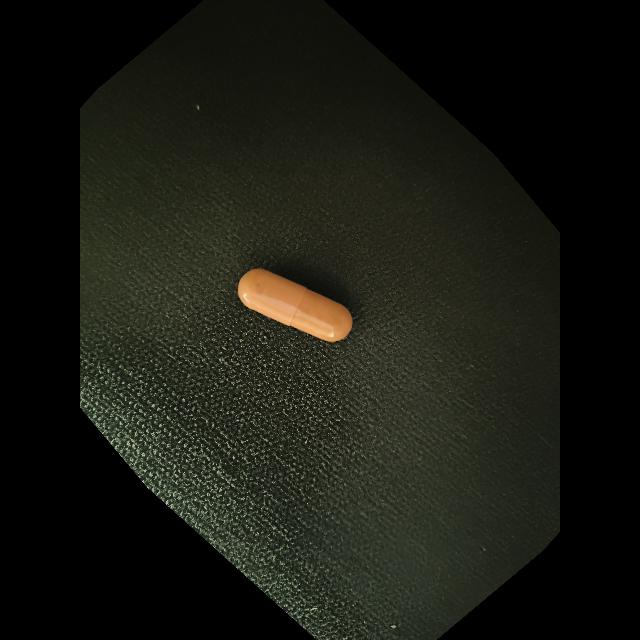Intact Capsule: (238, 268, 352, 342)
